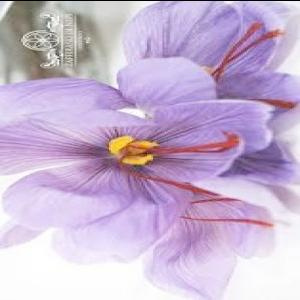Saffron: (0, 96, 273, 262)
